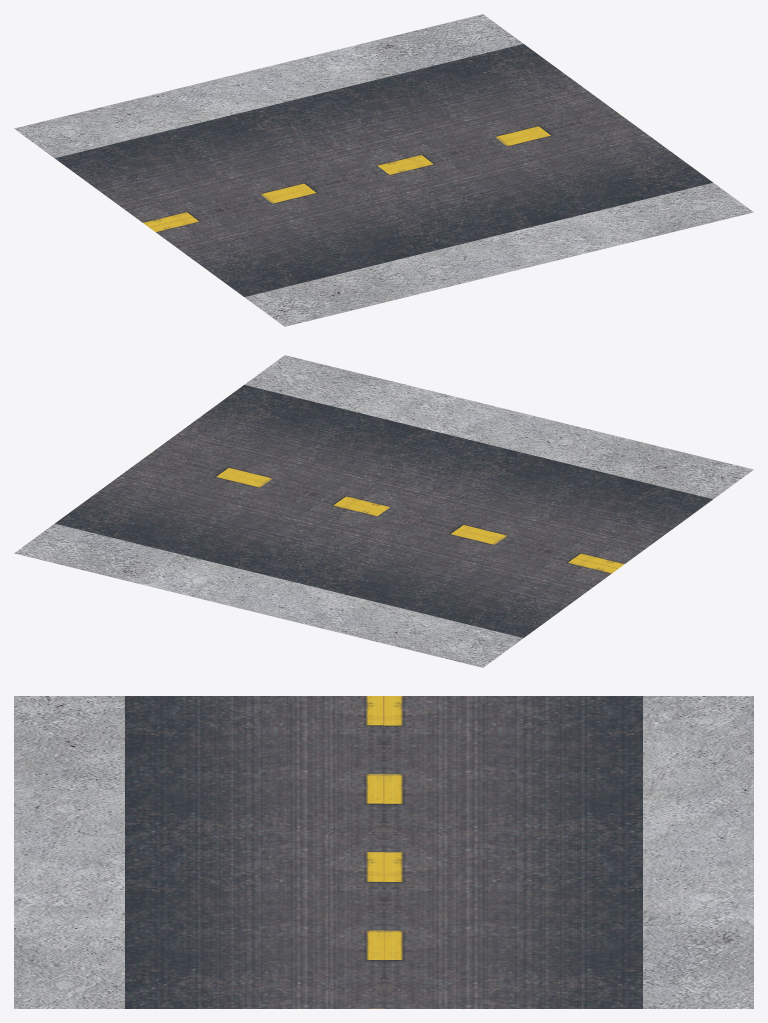
File: track_straight.fbx
3 renders of one model, top to bottom at view 1: azimuth 30°, elevation 25°; view 2: azimuth 150°, elevation 25°; view 3: azimuth 270°, elevation 25°, orthographic. The views are drawn at different scales.
Visible parts, largest first — view 1: tracK_road; view 2: tracK_road; view 3: tracK_road.
Boxes of the visible parts, x1,y1,x2,y2 form: tracK_road: [14, 14, 753, 326]; tracK_road: [14, 355, 753, 667]; tracK_road: [14, 696, 753, 1008].
Size of the model in its own units: 10 by 0 by 10.
2 materials, 2 textured.
